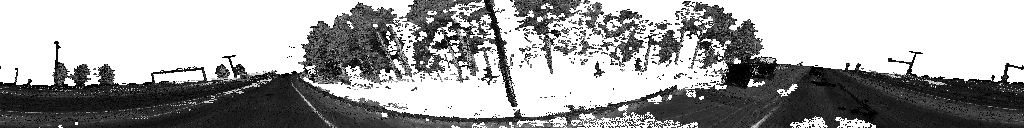gantry_sign_pole: (887, 51, 922, 73), (999, 64, 1016, 90), (151, 68, 185, 75)
light_pole: (484, 0, 517, 108), (47, 42, 60, 96), (222, 56, 236, 81)
traffic_pole: (303, 65, 315, 80), (852, 64, 860, 77), (844, 64, 849, 74)
